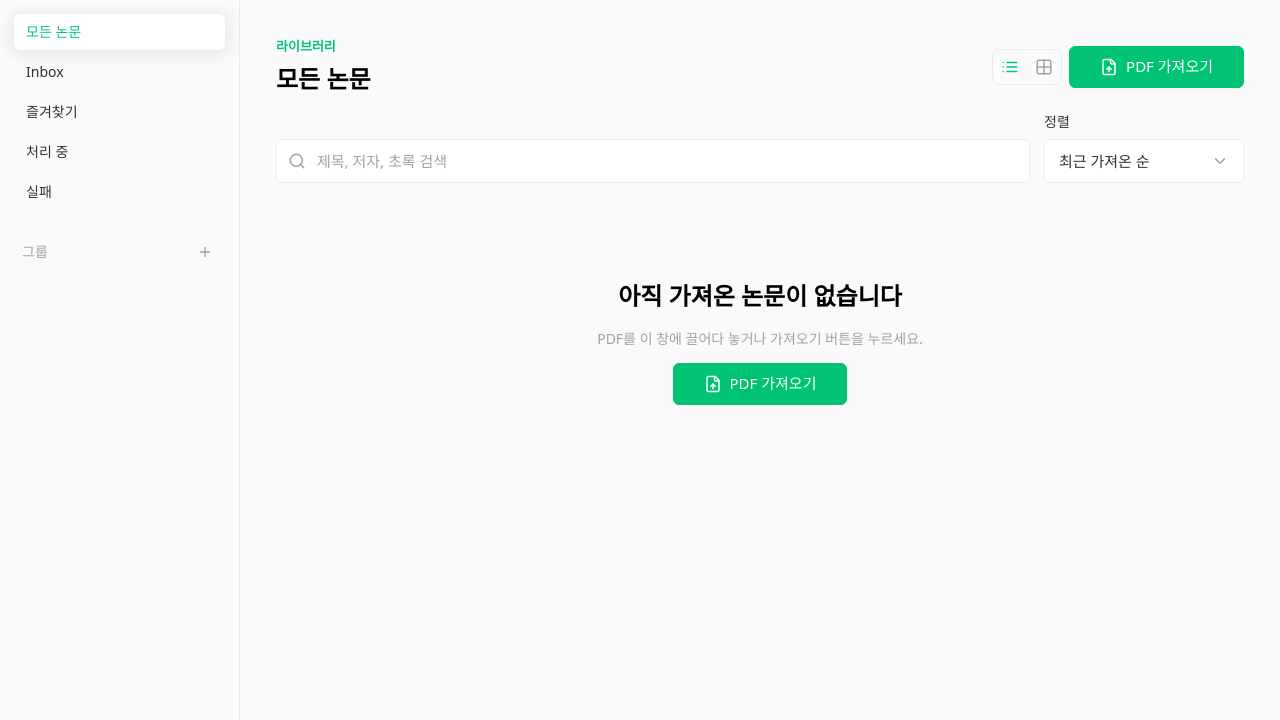
library › passes the selected system view to the query
Click the button "즐겨찾기": x=120, y=112 [14, 94, 225, 130]
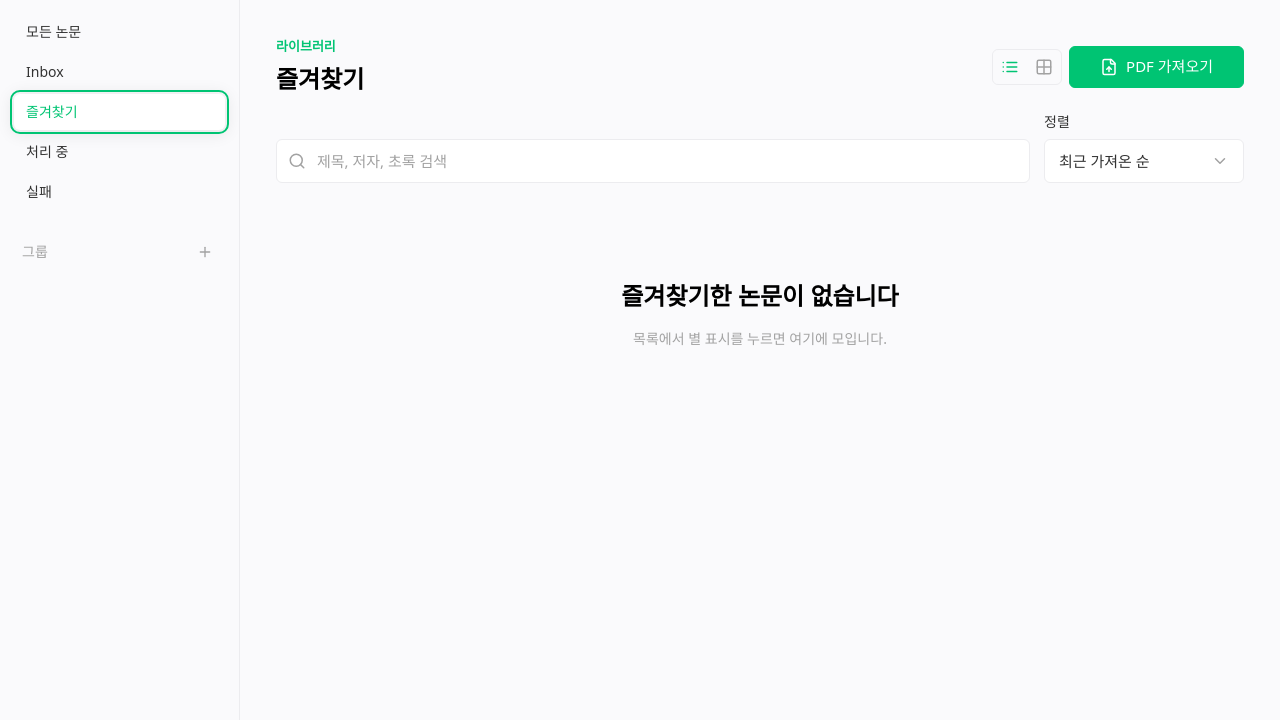
Expected: the heading "즐겨찾기한 논문이 없습니다" is shown, [621, 277, 899, 315]
